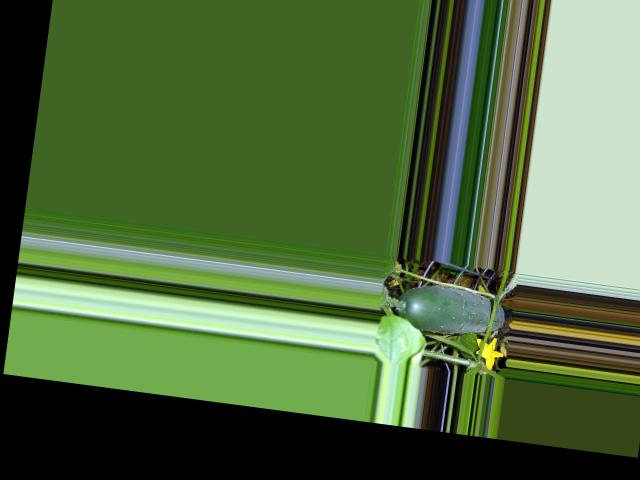cucumber: (392, 280, 506, 340)
